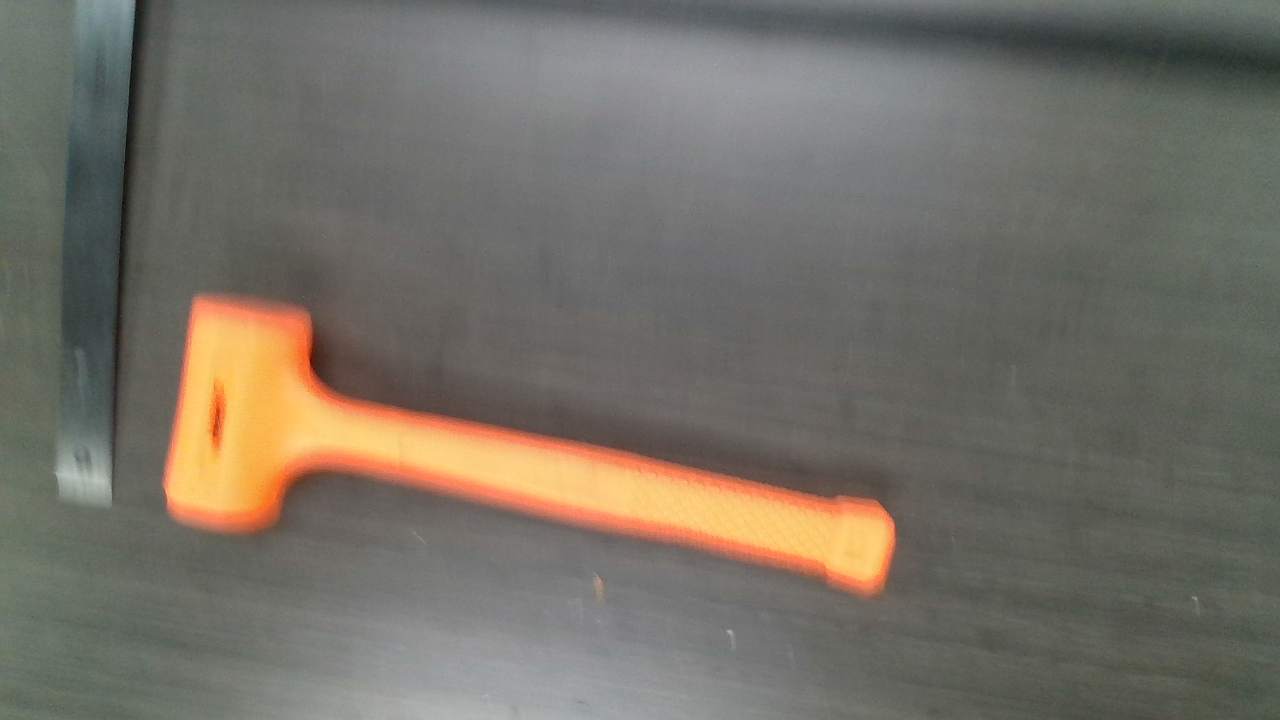Orange Hammer: (168, 291, 898, 598)
